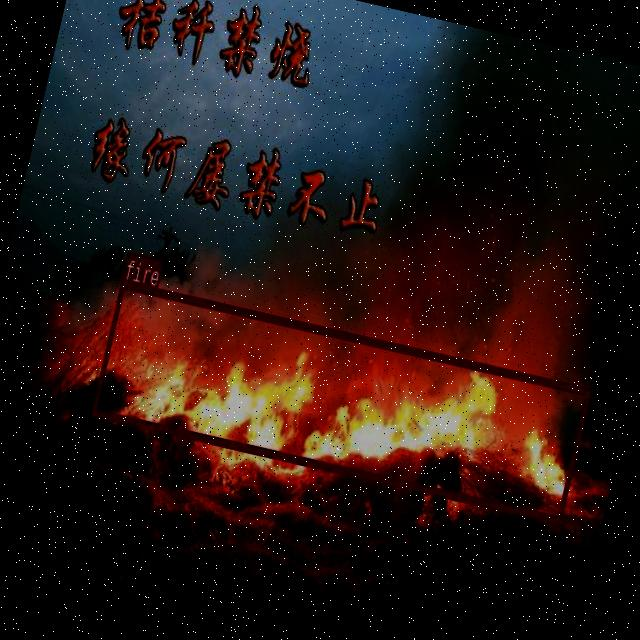fire: (90, 280, 591, 522)
